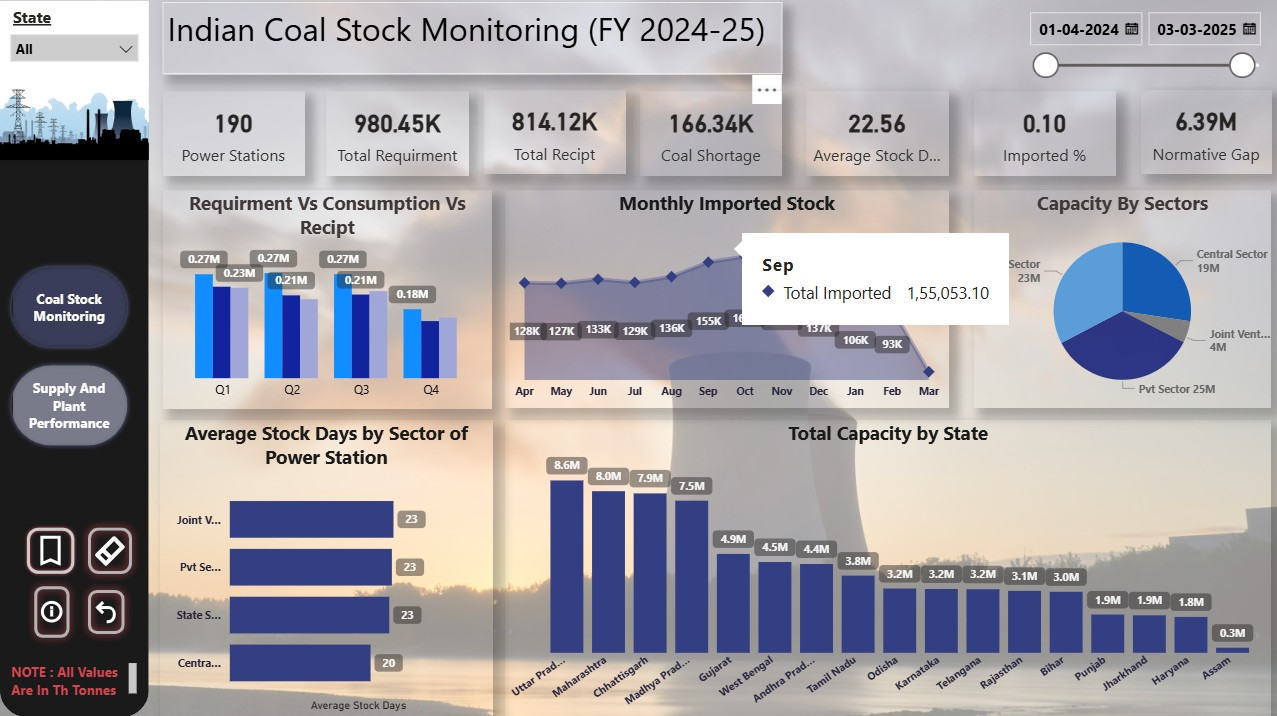

Layout of this report page (visuals, bound fields, positions):
{"tool":"powerbi","page":{"name":"Coal Stock Monitoring","canvas":[1280,720],"ordinal":1},"visuals":[{"type":"slicer","fields":{"Values":["Calender.Date"]},"box":[1017.8,5.6,262.4,83.3],"z":0},{"type":"card","fields":{"Values":["Coal Measures.Total Requirment"]},"box":[326.2,93.8,142.5,85],"z":1000},{"type":"card","fields":{"Values":["Coal Measures.Total Recipt"]},"box":[483.8,92.5,142,85],"z":2000},{"type":"textbox","box":[162.5,5,620,72.5],"z":3000},{"type":"card","fields":{"Values":["Coal Measures.Power Stations"]},"box":[162.5,93.8,142,85],"z":4000},{"type":"card","fields":{"Values":["Coal Measures.Coal Shortage"]},"box":[640,93.8,142,85],"z":5000},{"type":"card","fields":{"Values":["Coal Measures.Average Stock Days"]},"box":[806.2,93.8,142,85],"z":6000},{"type":"card","fields":{"Values":["Coal Measures.Imported %"]},"box":[973.8,93.8,142,85],"z":7000},{"type":"clusteredBarChart","fields":{"Category":["Coal.Sector of Power Station"],"Y":["Coal Measures.Average Stock Days"]},"box":[160,422.5,332.5,297.5],"z":8000},{"type":"stackedAreaChart","title":"Monthly Imported Stock","fields":{"Category":["Calender.Month"],"Y":["Coal Measures.Total Imported"]},"box":[505,192.5,443.8,218.8],"z":9000},{"type":"clusteredColumnChart","title":"Total Capacity by State","fields":{"Category":["Coal.State Name"],"Y":["Sum(Coal.Capacity of Power Station In Th Tonnes)"]},"box":[505,422.5,766.2,297.5],"z":10000},{"type":"slicer","fields":{"Values":["Coal.State Name"]},"box":[0,3.8,148.8,85],"z":11000},{"type":"clusteredColumnChart","title":"Requirment Vs Consumption Vs Recipt","fields":{"Category":["Calender.Qtr"],"Y":["Coal Measures.Total Requirment","Sum(Coal.Daily Consumption In Th Tonnes)","Coal Measures.Total Recipt"]},"box":[162.3,192.5,329.6,218.9],"z":13000},{"type":"shape","box":[0,102.5,148.8,617.5],"z":14000},{"type":"pageNavigator","box":[6.2,265,126.2,188.8],"z":15000},{"type":"image","box":[0,77.5,148.8,93.8],"z":16000},{"type":"card","fields":{"Values":["Coal Measures.Normative Gap"]},"box":[1141.2,92.5,130,85],"z":17000},{"type":"actionButton","box":[23.8,527.5,53.8,52.5],"z":18000},{"type":"actionButton","box":[26.2,581.2,51.2,67.5],"z":19000},{"type":"actionButton","box":[80,522.5,60,62.5],"z":20000},{"type":"actionButton","box":[80,585,52.5,60],"z":21000},{"type":"textbox","box":[6.2,661.2,135,42.5],"z":22000},{"type":"pieChart","title":"Capacity By Sectors","fields":{"Category":["Sectors.Sector of Power Station"],"Y":["Sum(Coal.Capacity of Power Station In Th Tonnes)"]},"box":[973.8,192.5,297.5,218.8],"z":24000}]}

Visuals, with their boxes on the page's 1280x720 design canvas (x1, y1, x2, y2). These are canvas units, not pixel positions in the 1277x716 screenshot, which may show the page scaled, cropped or inside an application window:
slicer - Calender.Date: left=1018, top=6, right=1280, bottom=89
card - Coal Measures.Total Requirment: left=326, top=94, right=469, bottom=179
card - Coal Measures.Total Recipt: left=484, top=92, right=626, bottom=178
textbox: left=162, top=5, right=782, bottom=78
card - Coal Measures.Power Stations: left=162, top=94, right=304, bottom=179
card - Coal Measures.Coal Shortage: left=640, top=94, right=782, bottom=179
card - Coal Measures.Average Stock Days: left=806, top=94, right=948, bottom=179
card - Coal Measures.Imported %: left=974, top=94, right=1116, bottom=179
clusteredBarChart - Coal.Sector of Power Station x Coal Measures.Average Stock Days: left=160, top=422, right=492, bottom=720
"Monthly Imported Stock" stackedAreaChart: left=505, top=192, right=949, bottom=411
"Total Capacity by State" clusteredColumnChart: left=505, top=422, right=1271, bottom=720
slicer - Coal.State Name: left=0, top=4, right=149, bottom=89
"Requirment Vs Consumption Vs Recipt" clusteredColumnChart: left=162, top=192, right=492, bottom=411
shape: left=0, top=102, right=149, bottom=720
pageNavigator: left=6, top=265, right=132, bottom=454
image: left=0, top=78, right=149, bottom=171
card - Coal Measures.Normative Gap: left=1141, top=92, right=1271, bottom=178
actionButton: left=24, top=528, right=78, bottom=580
actionButton: left=26, top=581, right=77, bottom=649
actionButton: left=80, top=522, right=140, bottom=585
actionButton: left=80, top=585, right=132, bottom=645
textbox: left=6, top=661, right=141, bottom=704
"Capacity By Sectors" pieChart: left=974, top=192, right=1271, bottom=411
